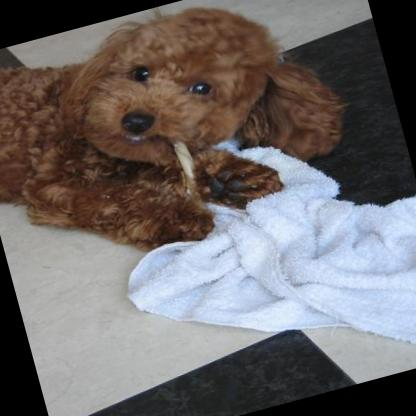toy_poodle: (0, 0, 365, 289)
